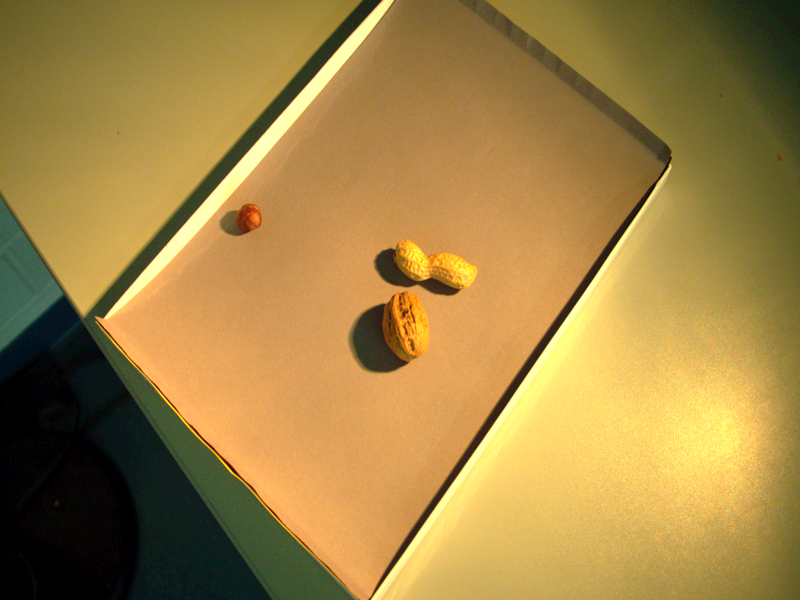walnut: (373, 288, 439, 368)
